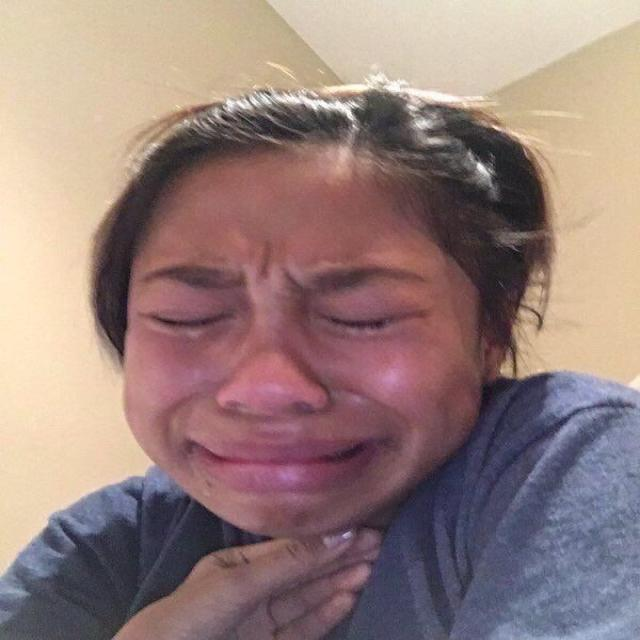sem_oculos: (95, 241, 501, 352)
